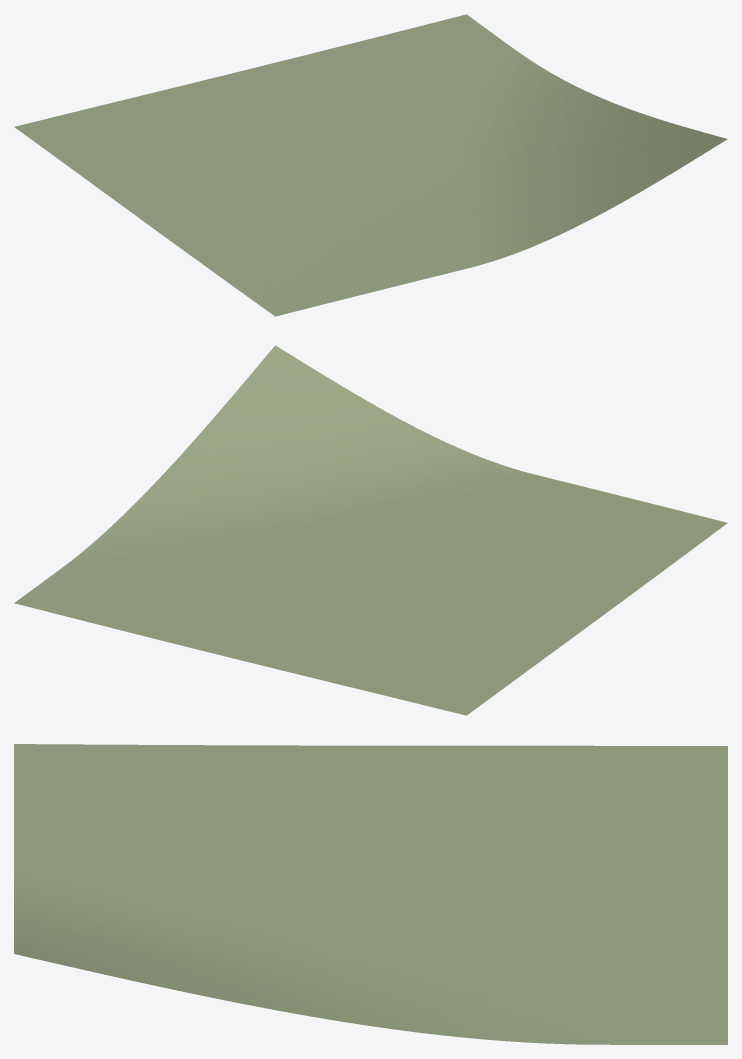
The model's file is desert-18-15.glb.
The picture shows the model from 3 angles, top to bottom: view 1: azimuth 30°, elevation 25°; view 2: azimuth 150°, elevation 25°; view 3: azimuth 270°, elevation 25°; orthographic projection. The views are drawn at different scales.
Visible parts, largest first — view 1: desert-18-15; view 2: desert-18-15; view 3: desert-18-15.
Boxes of the visible parts, left/top/right/bottom form: desert-18-15: left=14, top=14, right=727, bottom=316; desert-18-15: left=14, top=345, right=727, bottom=715; desert-18-15: left=14, top=744, right=727, bottom=1044.
Bounding box in the file's own units: 512 × 74.28 × 512.
